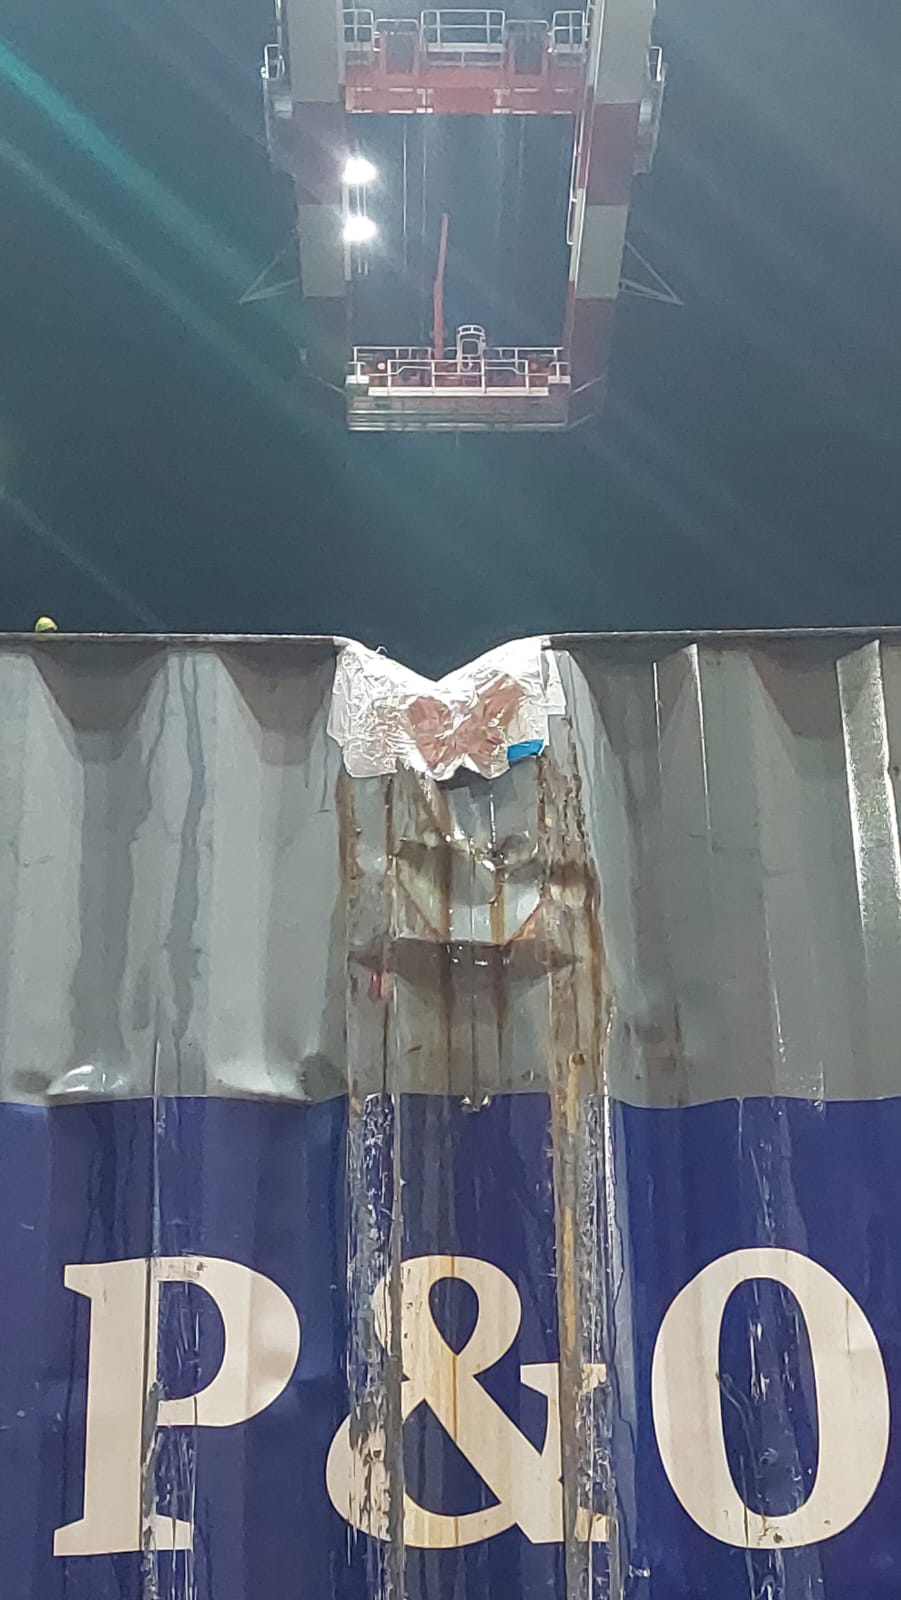bulged: (229, 613, 689, 1076)
